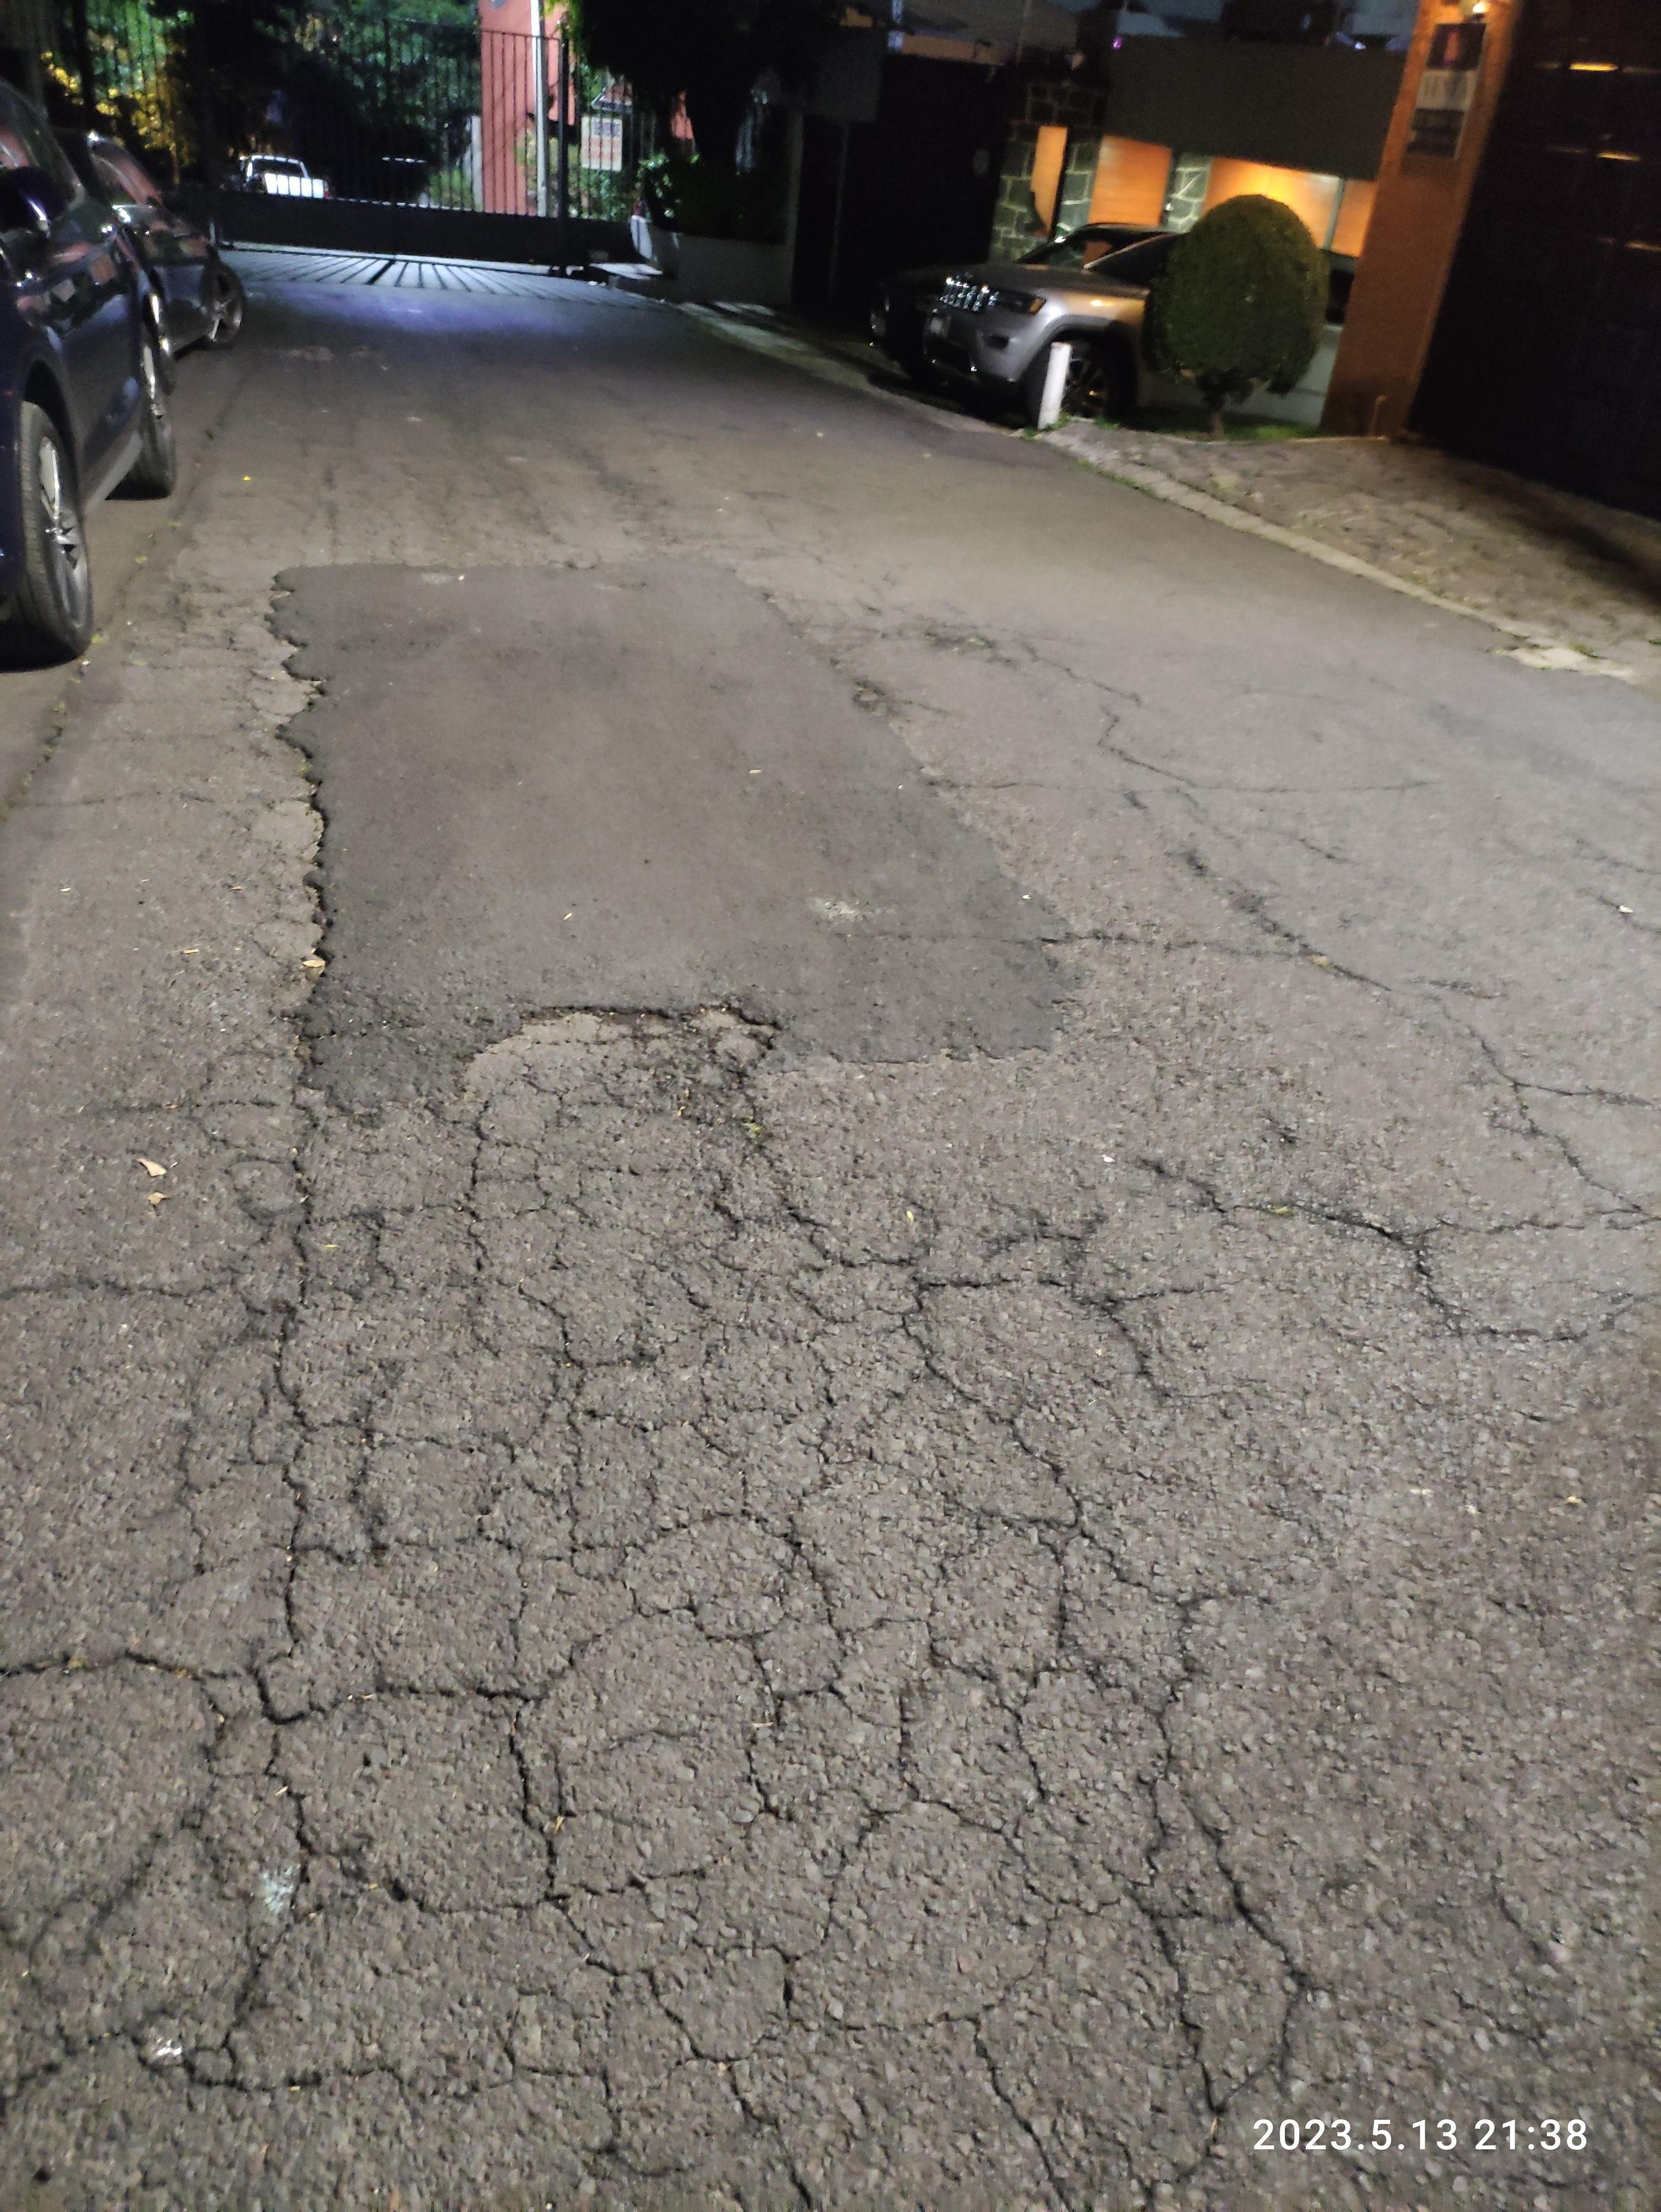alligator-crack: (58, 991, 1354, 2212)
